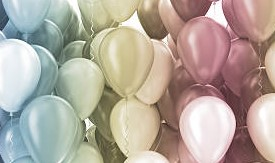Balloon: (17, 95, 77, 163), (178, 96, 236, 163), (98, 28, 152, 98), (177, 16, 230, 85), (1, 38, 41, 113), (109, 98, 160, 154), (55, 58, 106, 113), (246, 93, 275, 163), (233, 1, 275, 41), (2, 1, 50, 34)
